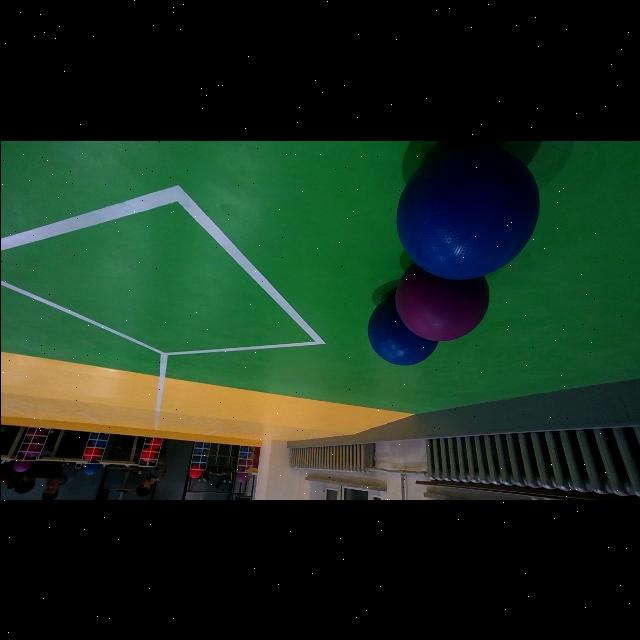B: (394, 142, 538, 278), (403, 270, 483, 336), (367, 302, 439, 374)
